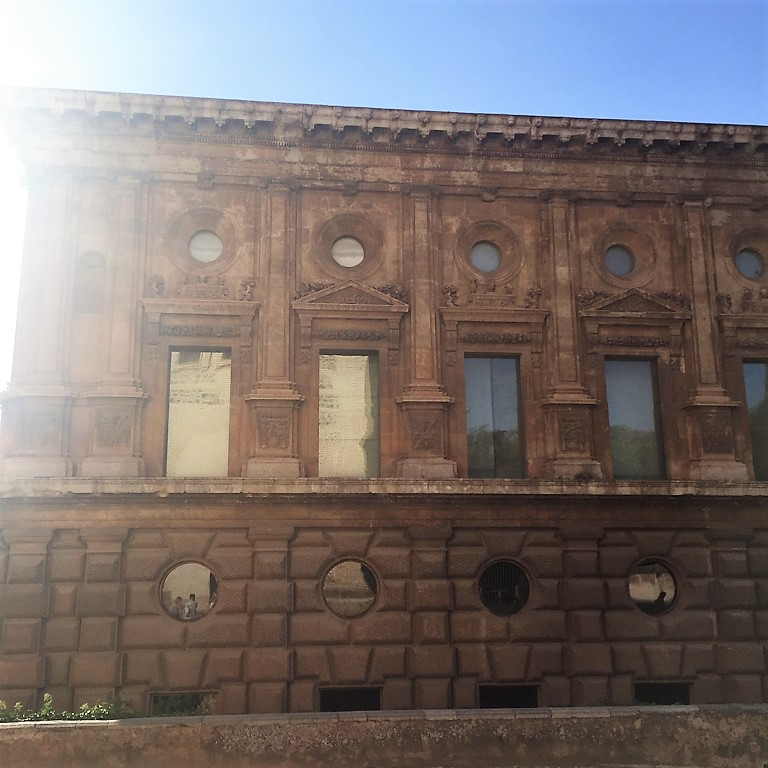fronton: (288, 276, 409, 316), (575, 287, 694, 323)
ojo-de-buey: (153, 557, 224, 622), (171, 205, 240, 270), (317, 554, 381, 621), (316, 216, 386, 276), (475, 555, 537, 621), (458, 222, 526, 282), (591, 226, 661, 284), (624, 553, 683, 619), (723, 228, 768, 291)
vano-adintelado: (144, 323, 253, 482), (299, 330, 404, 477), (446, 332, 546, 479), (591, 338, 688, 480)
